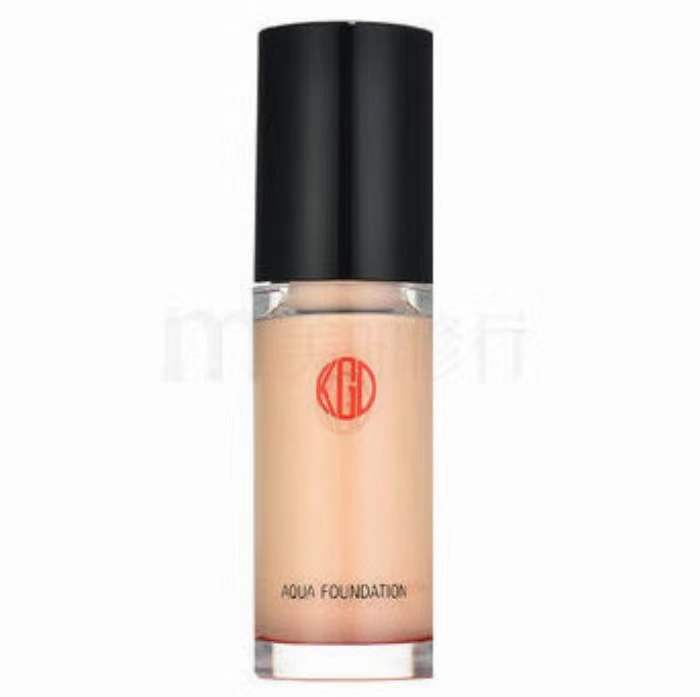cosmetic: (251, 23, 439, 684)
